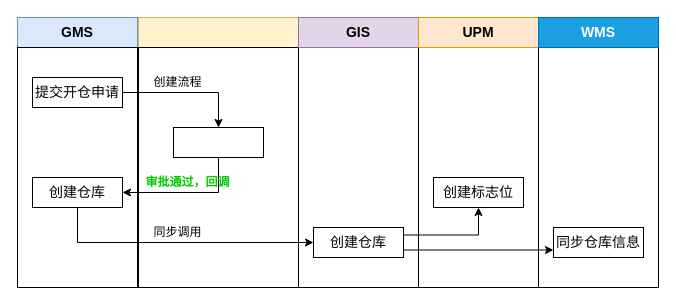
Image size: 676x305. Some labels were removed from this diagram. The box of each missing label's shape, as (x1, y1, x2, y2) in pixels:
BPM: (138, 16, 298, 48)
审批流程: (172, 126, 264, 158)
